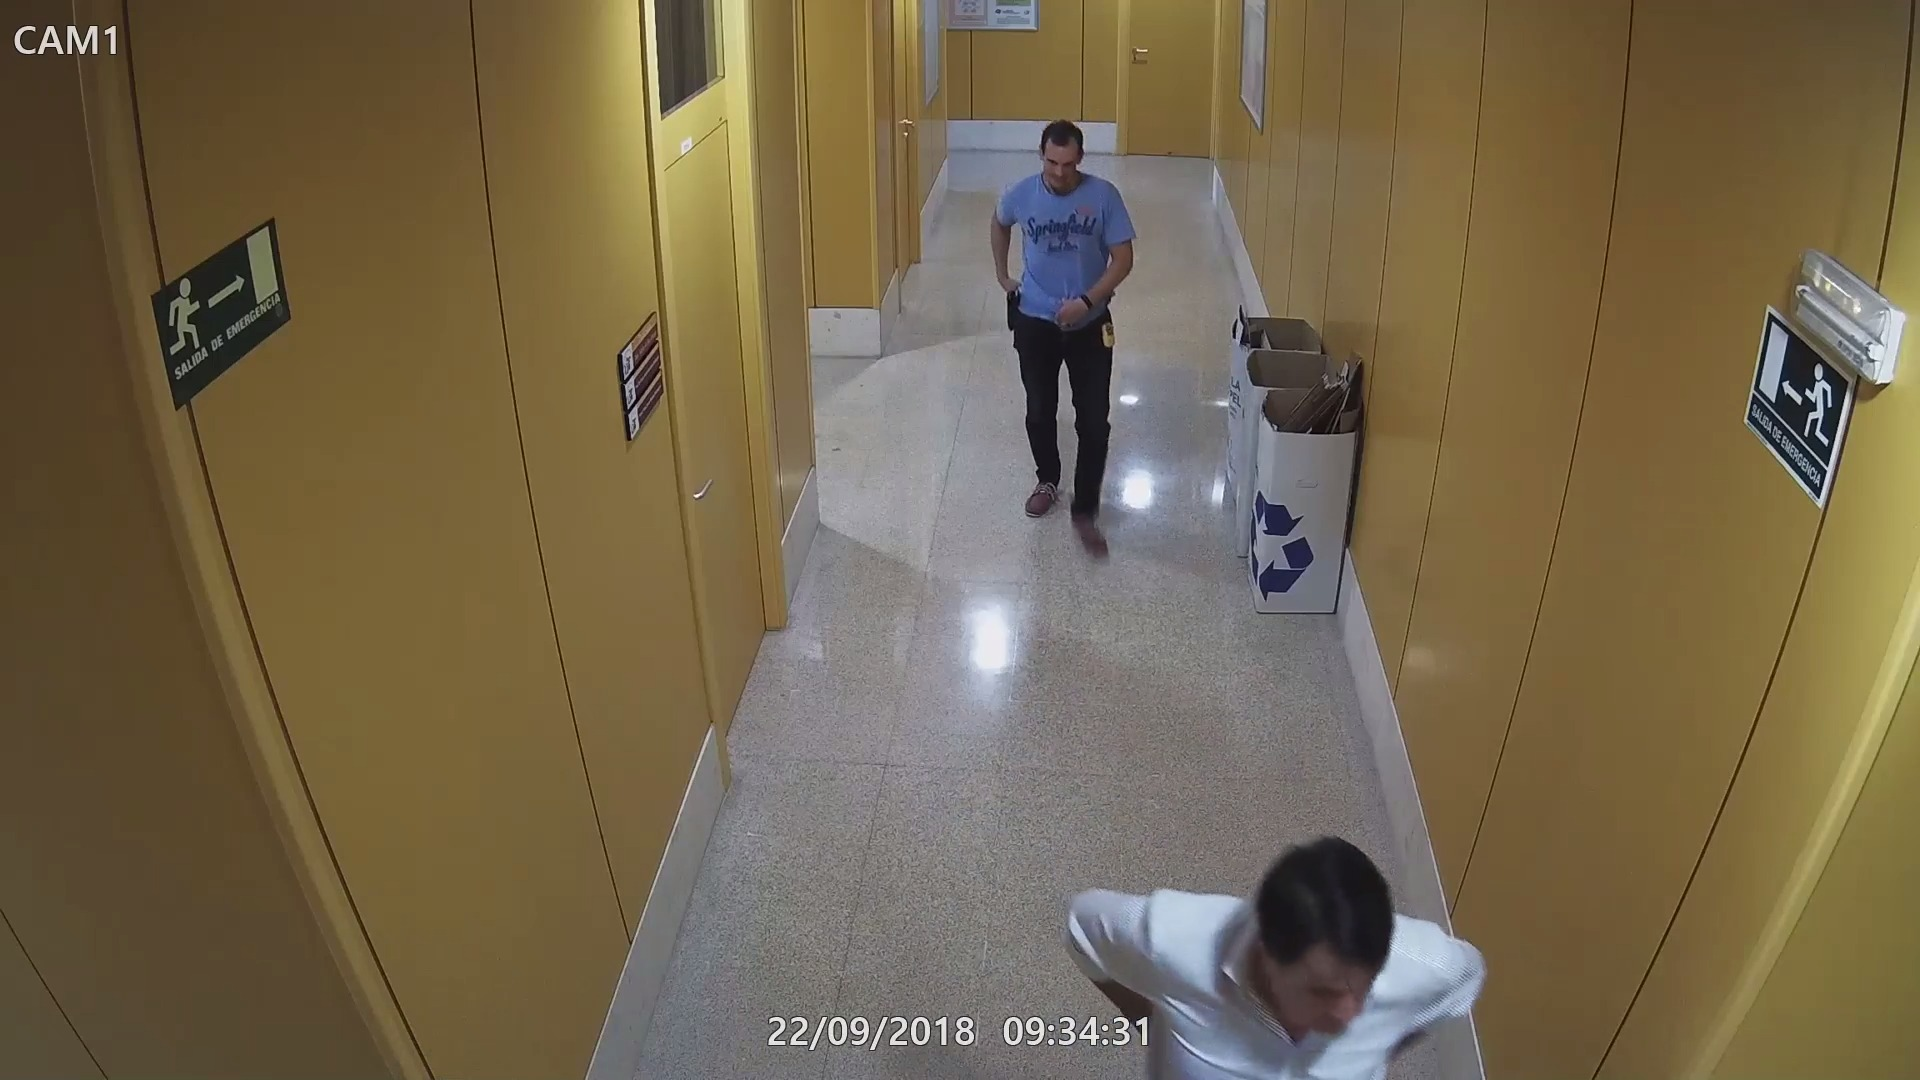Handgun: (1000, 286, 1026, 335)
